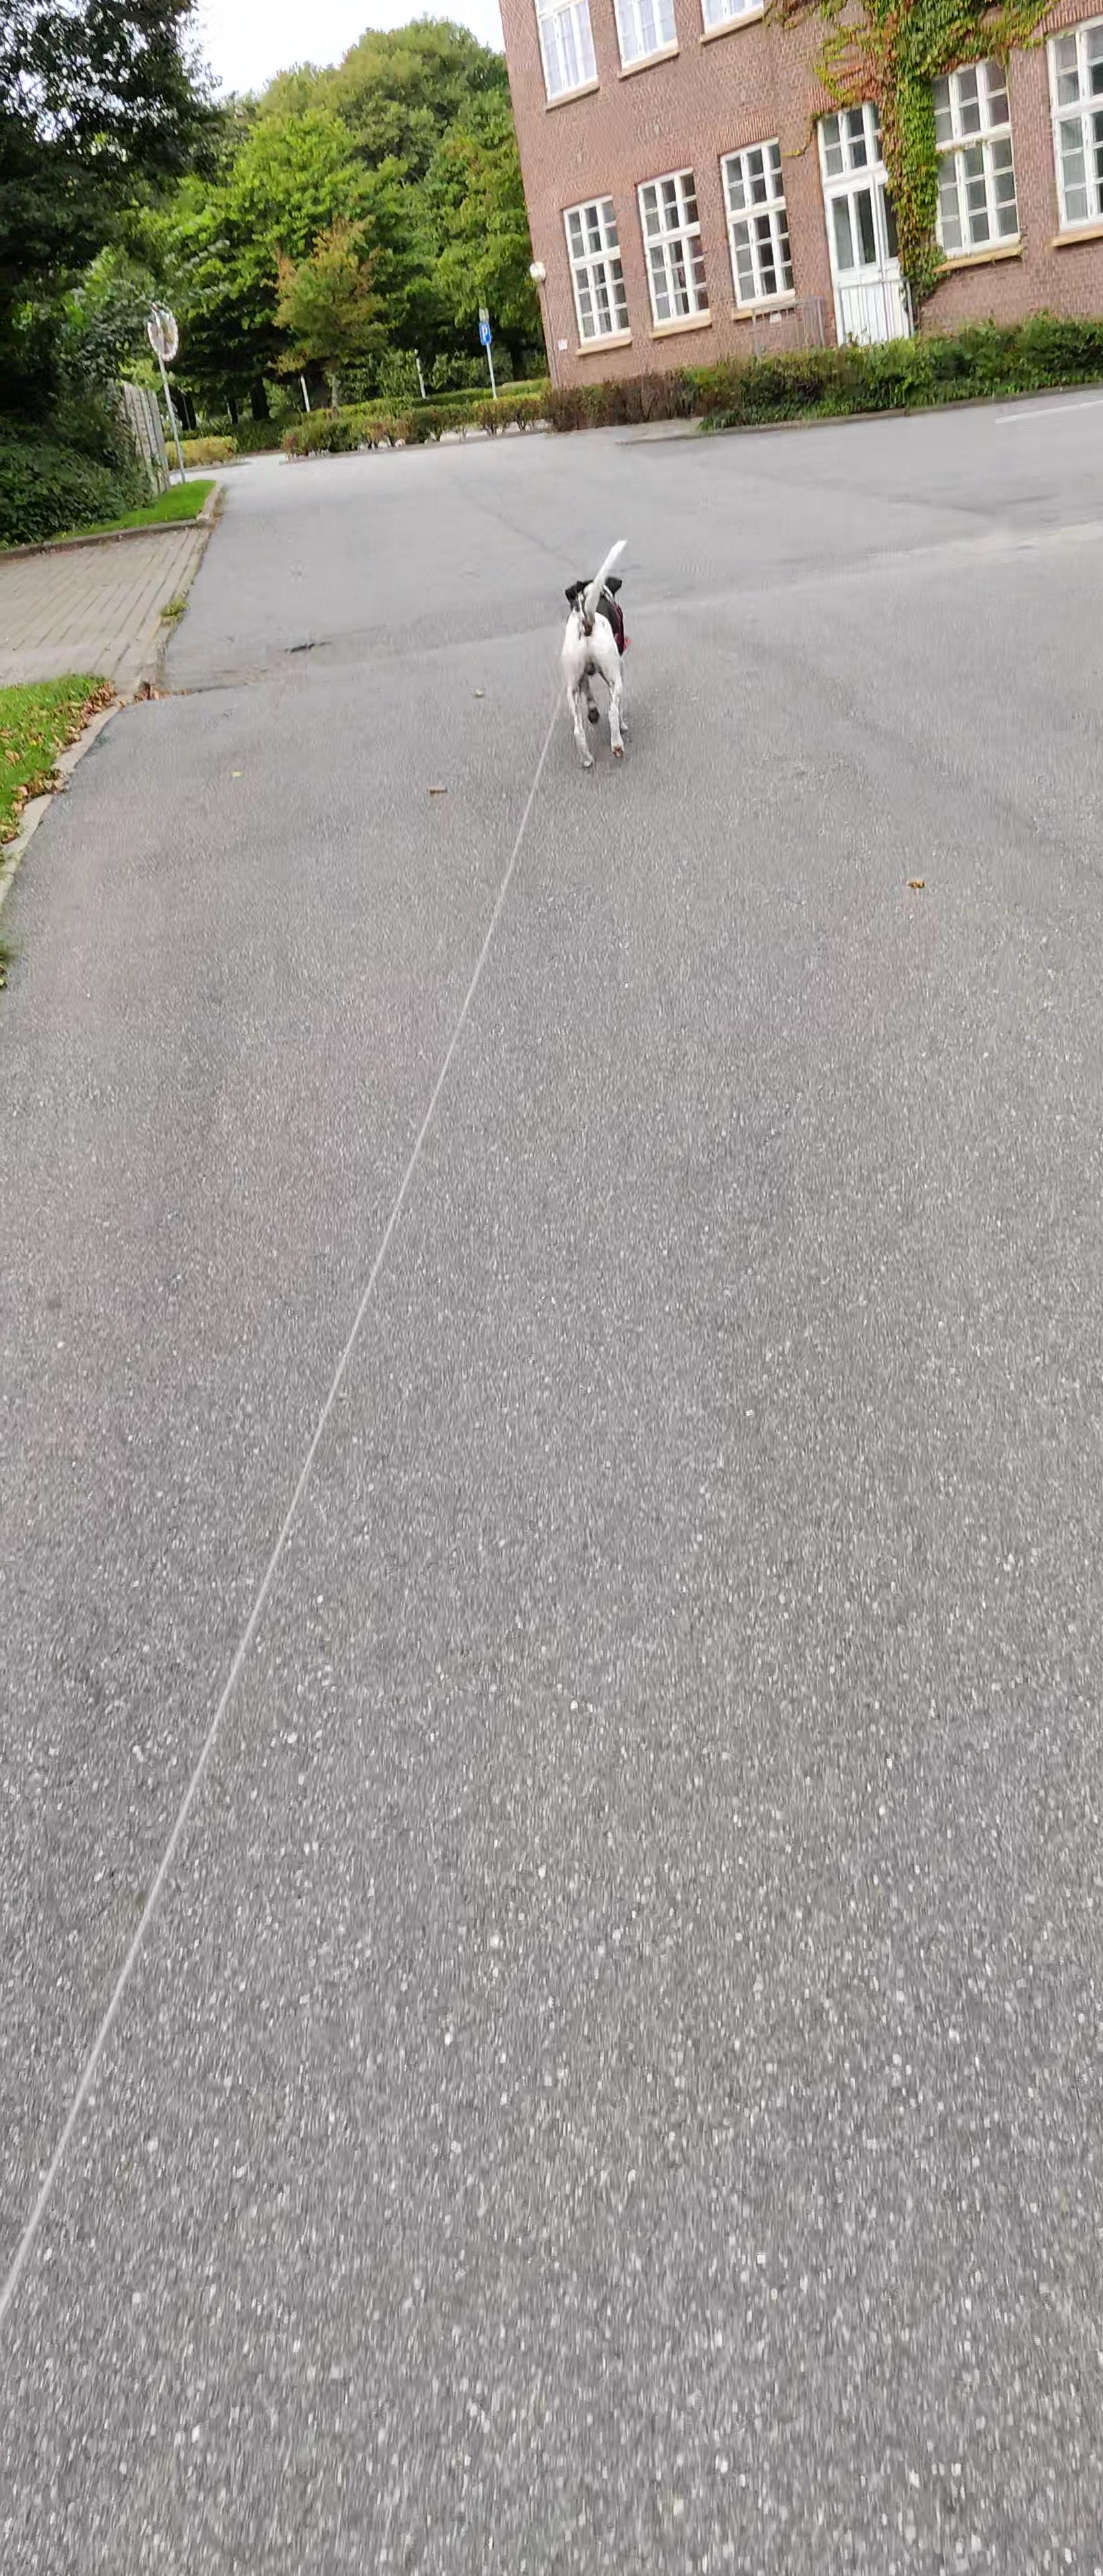Dog: (544, 522, 648, 779)
